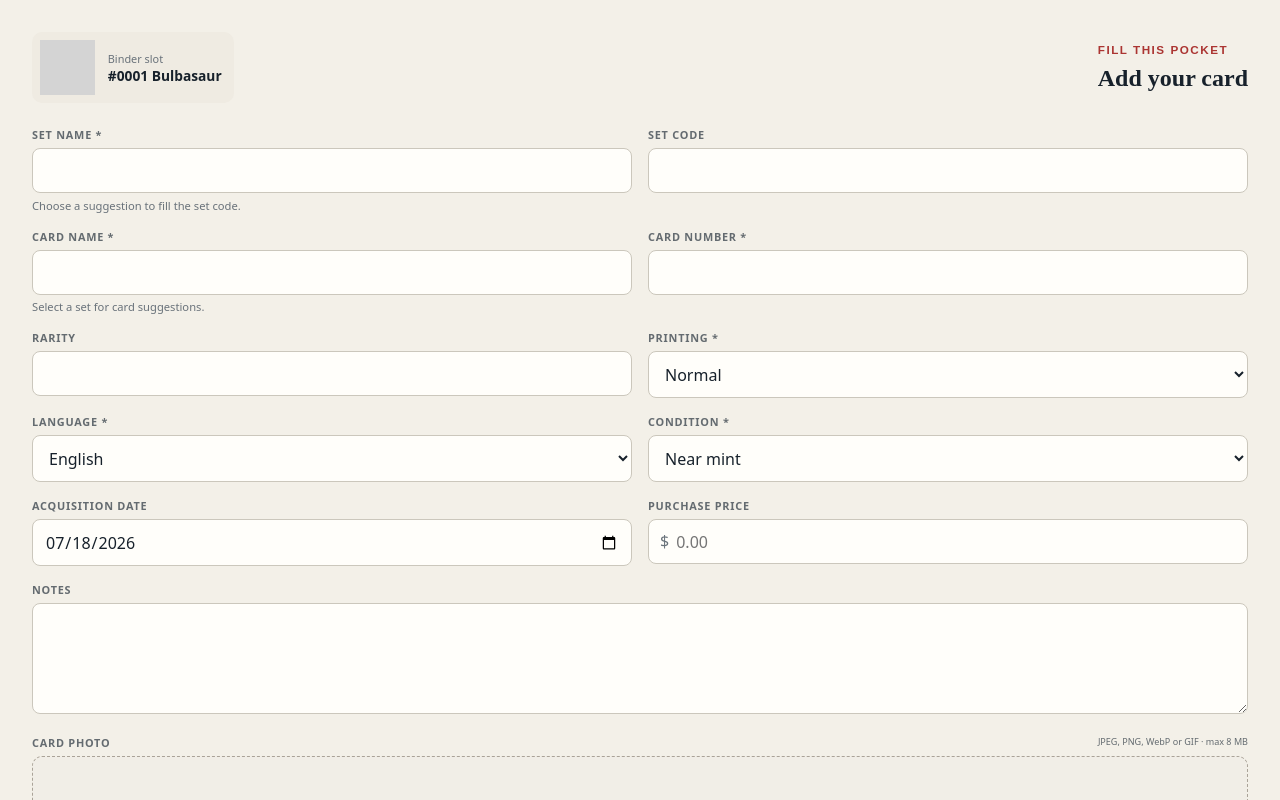
Add Card catalog assistance › keeps the form open when a cached card record lacks printing fields
The width and height of the screenshot is (1280, 800).
expect the text "Choose a suggestion to fill the set code." is shown: met, box [32, 198, 241, 213]
Type "bas" into the dropdown labelled "Set name *".
click(332, 170); type("bas")  # box [32, 148, 632, 193]
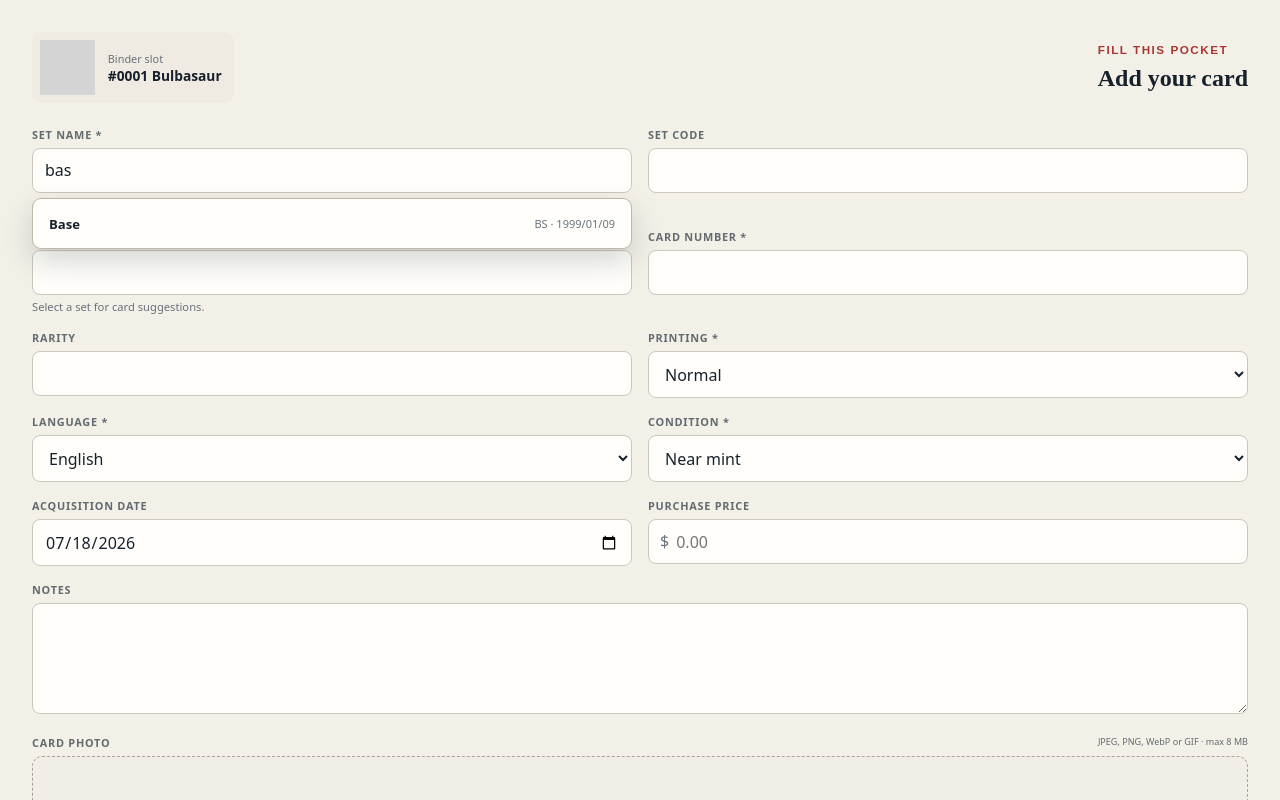
Click the option "Base BS · 1999/01/09".
click(64, 224)  # box [49, 215, 615, 233]
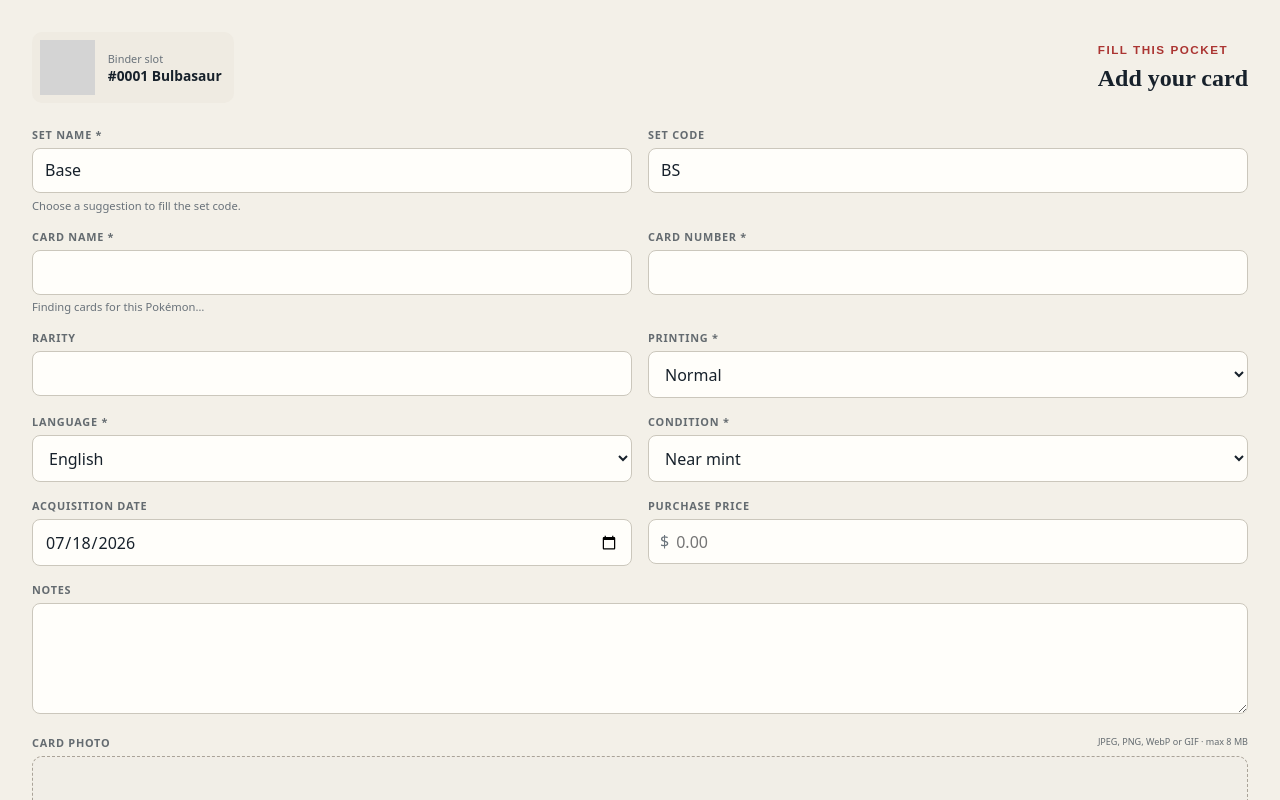
Type "bulb" into the dropdown labelled "Card name *".
click(332, 272); type("bulb")  # box [32, 250, 632, 294]
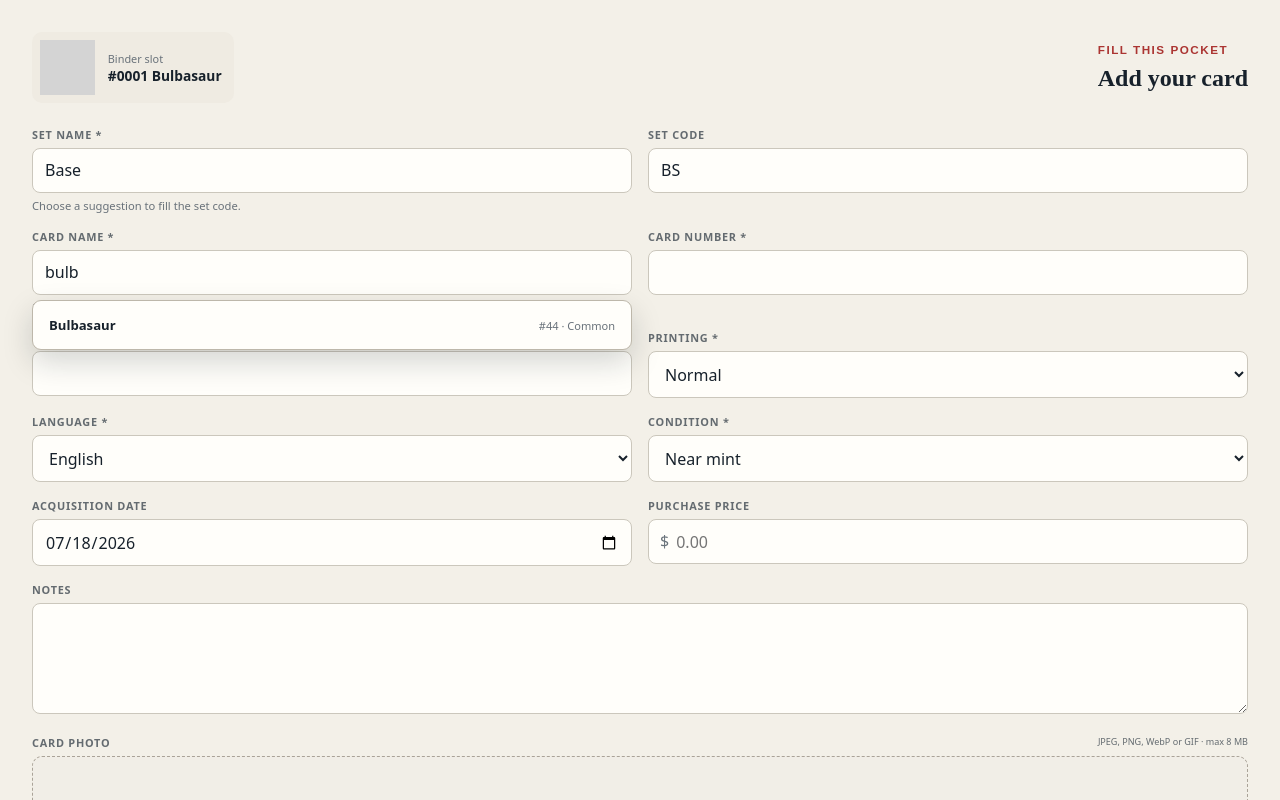
Click the option "Bulbasaur #44 · Common".
click(82, 325)  # box [49, 316, 615, 334]
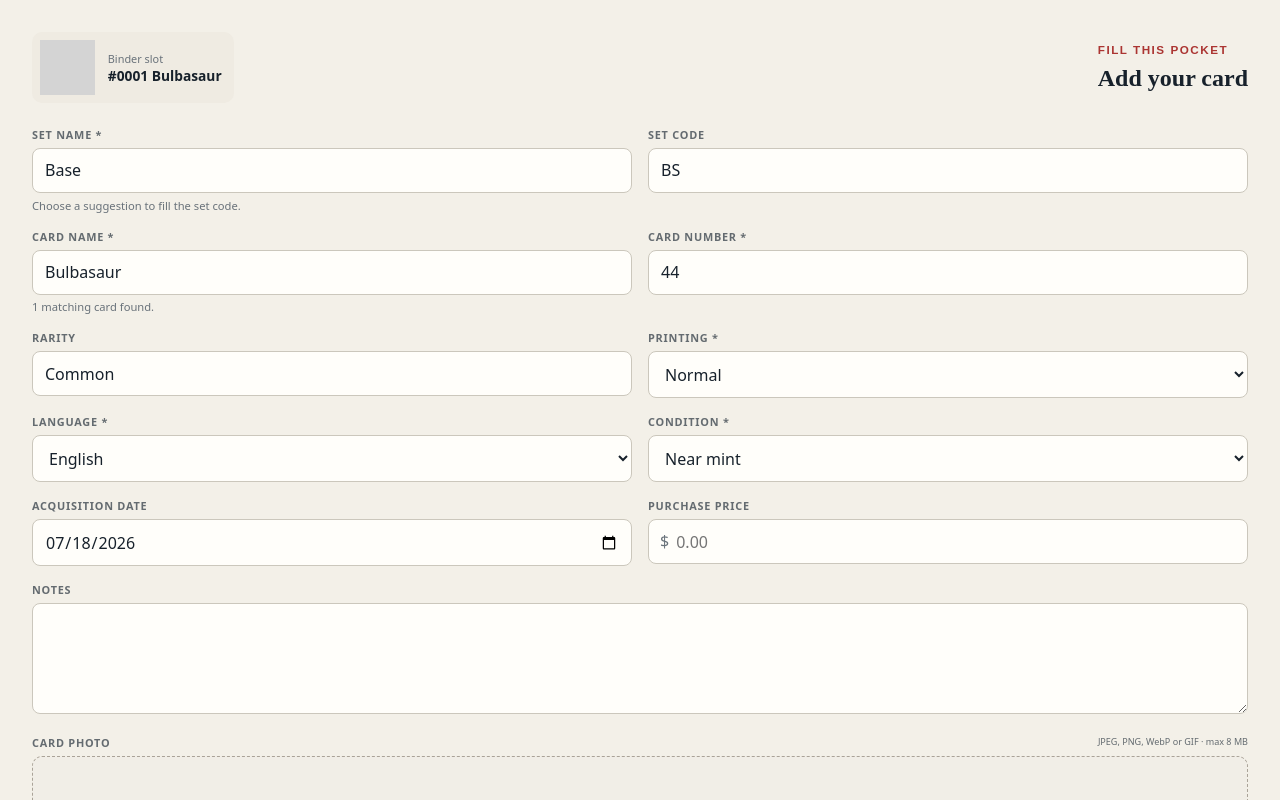
expect the dropdown labelled "Printing *" shows "Normal": met, box [648, 351, 1248, 398]
expect the dropdown labelled "Card number *" holds "44": met, box [648, 250, 1248, 294]
